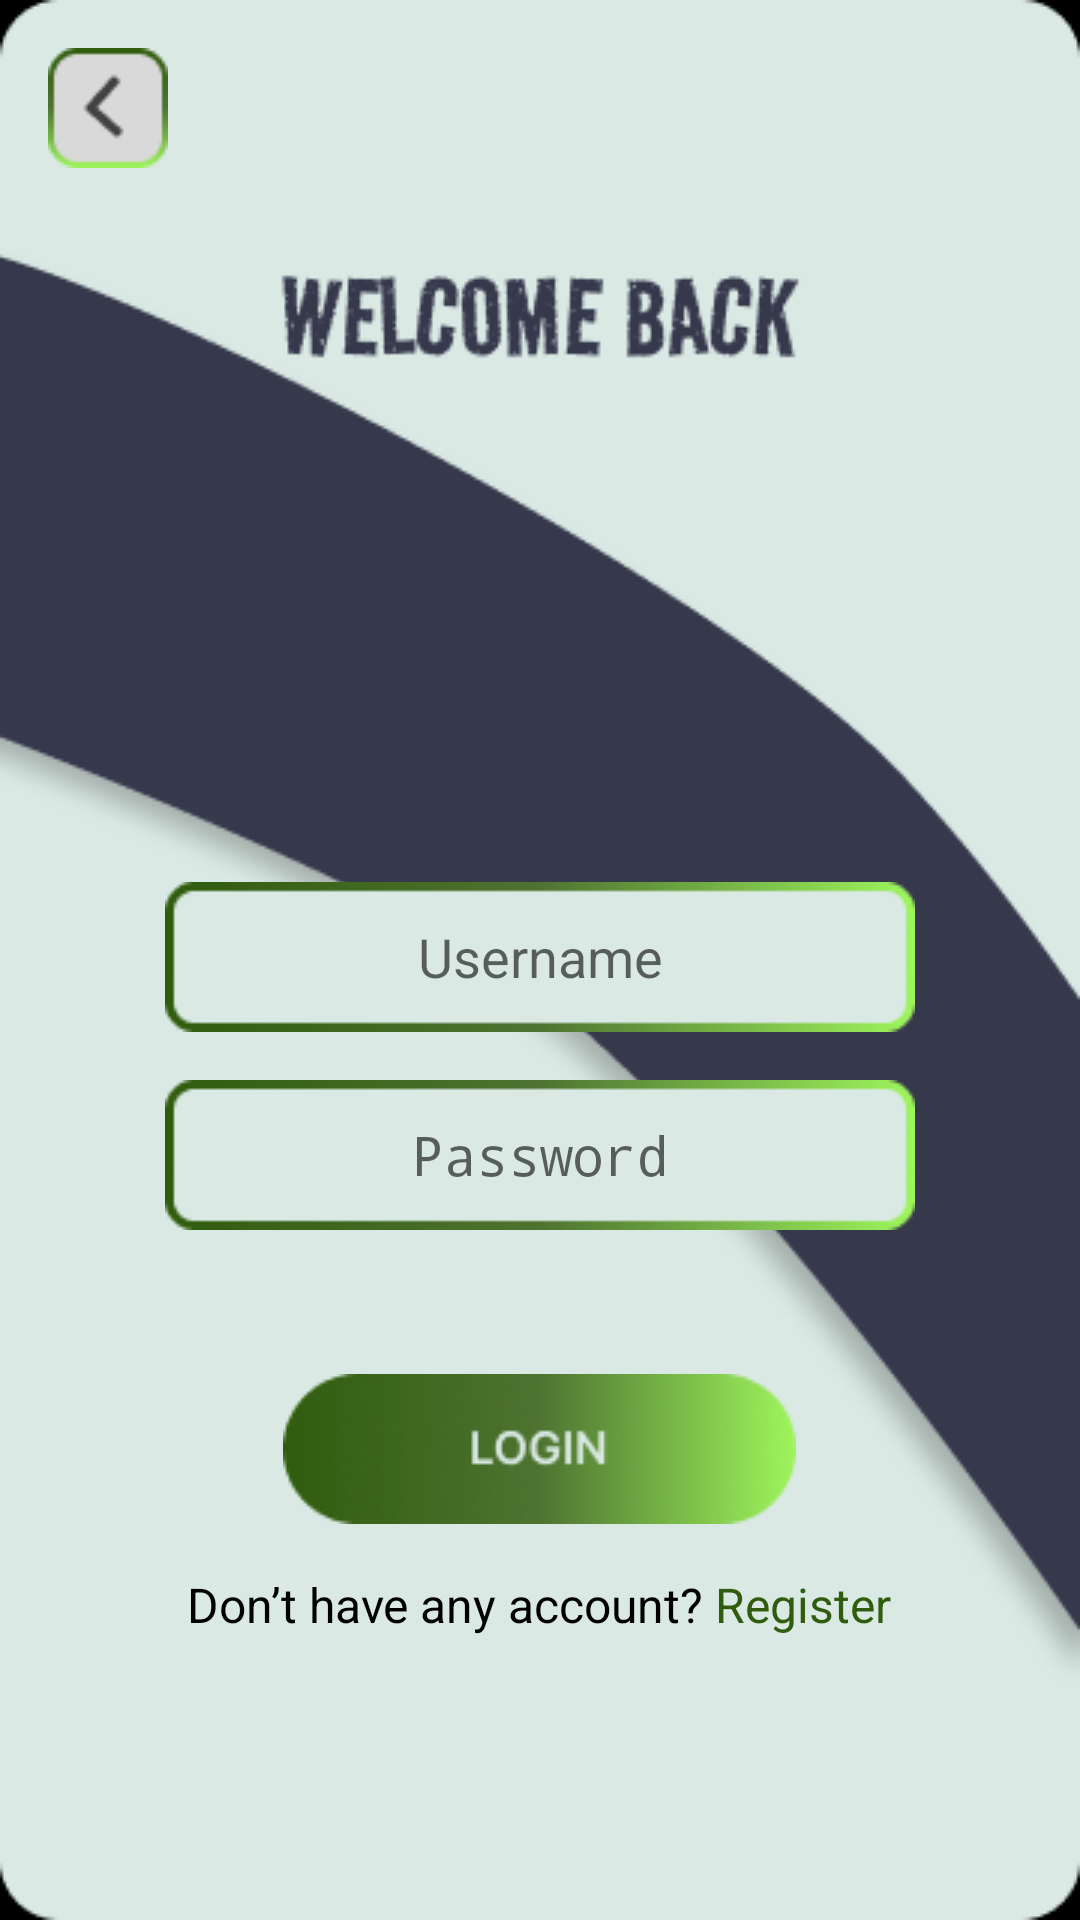

Where to tap for icons on this 1080px x 1920px app screen, as (x=x, y=y):
back arrow: (x=108, y=108)
